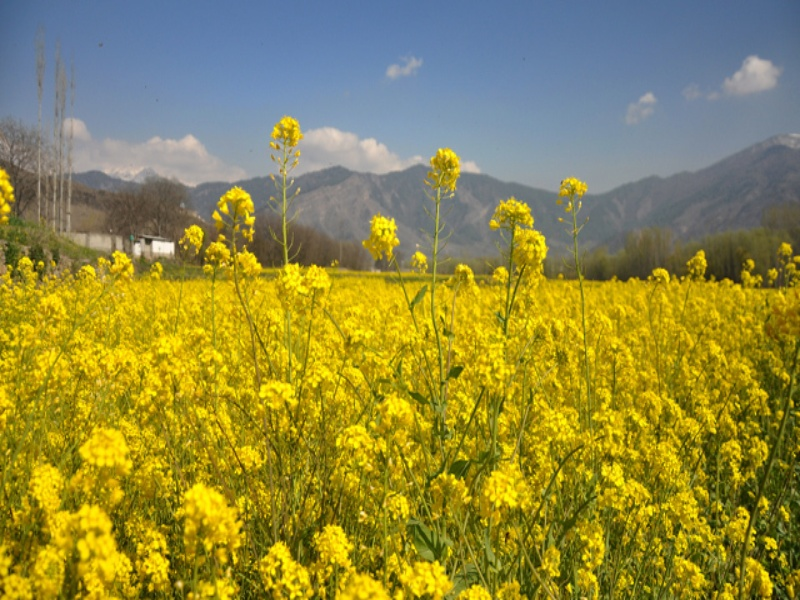mustard: (108, 79, 674, 589), (1, 302, 794, 592)
